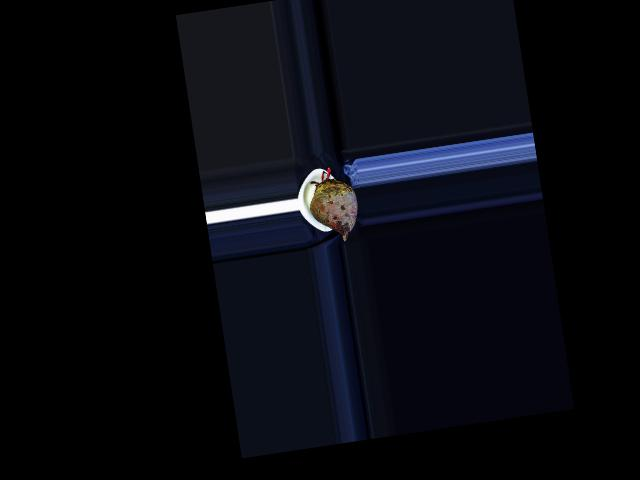beet: (304, 164, 361, 245)
